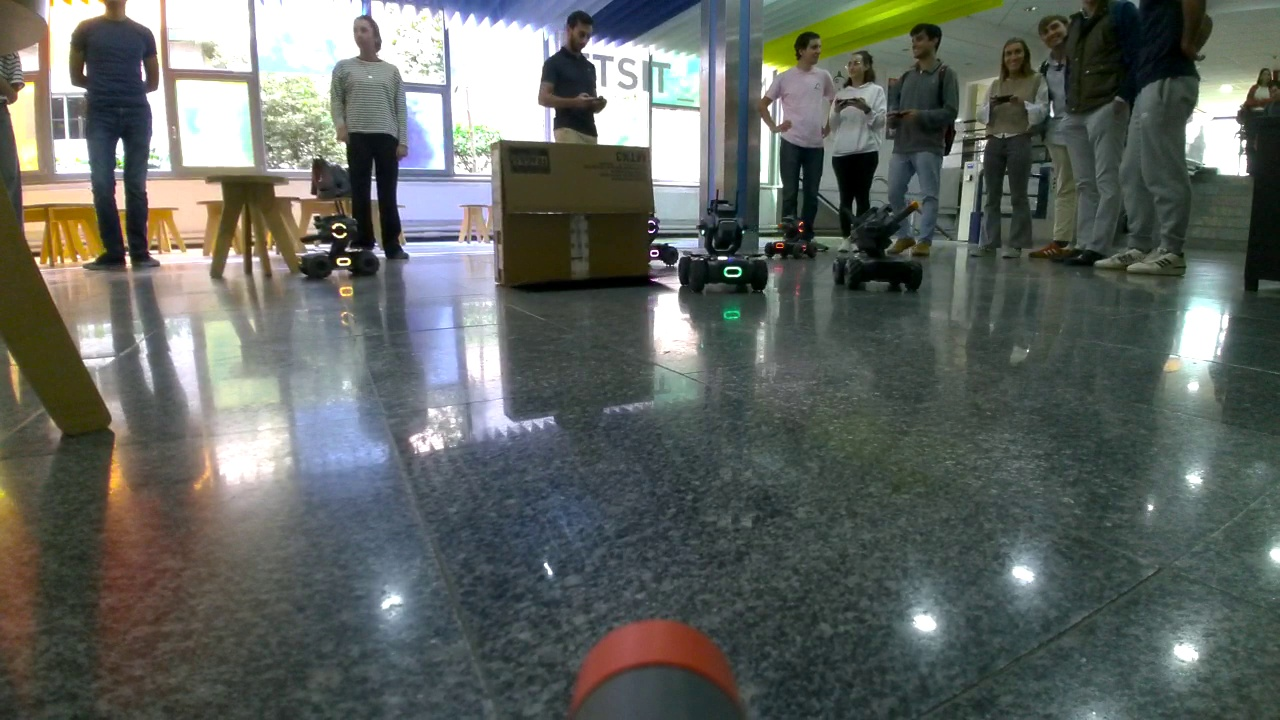robot: (670, 200, 773, 294), (834, 203, 932, 295), (286, 207, 389, 282), (761, 211, 821, 260), (648, 213, 679, 266)
